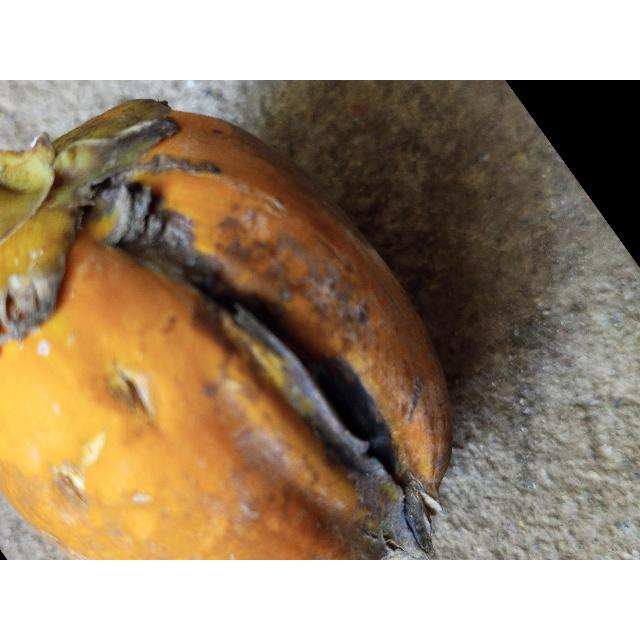damaged: (0, 99, 452, 559)
